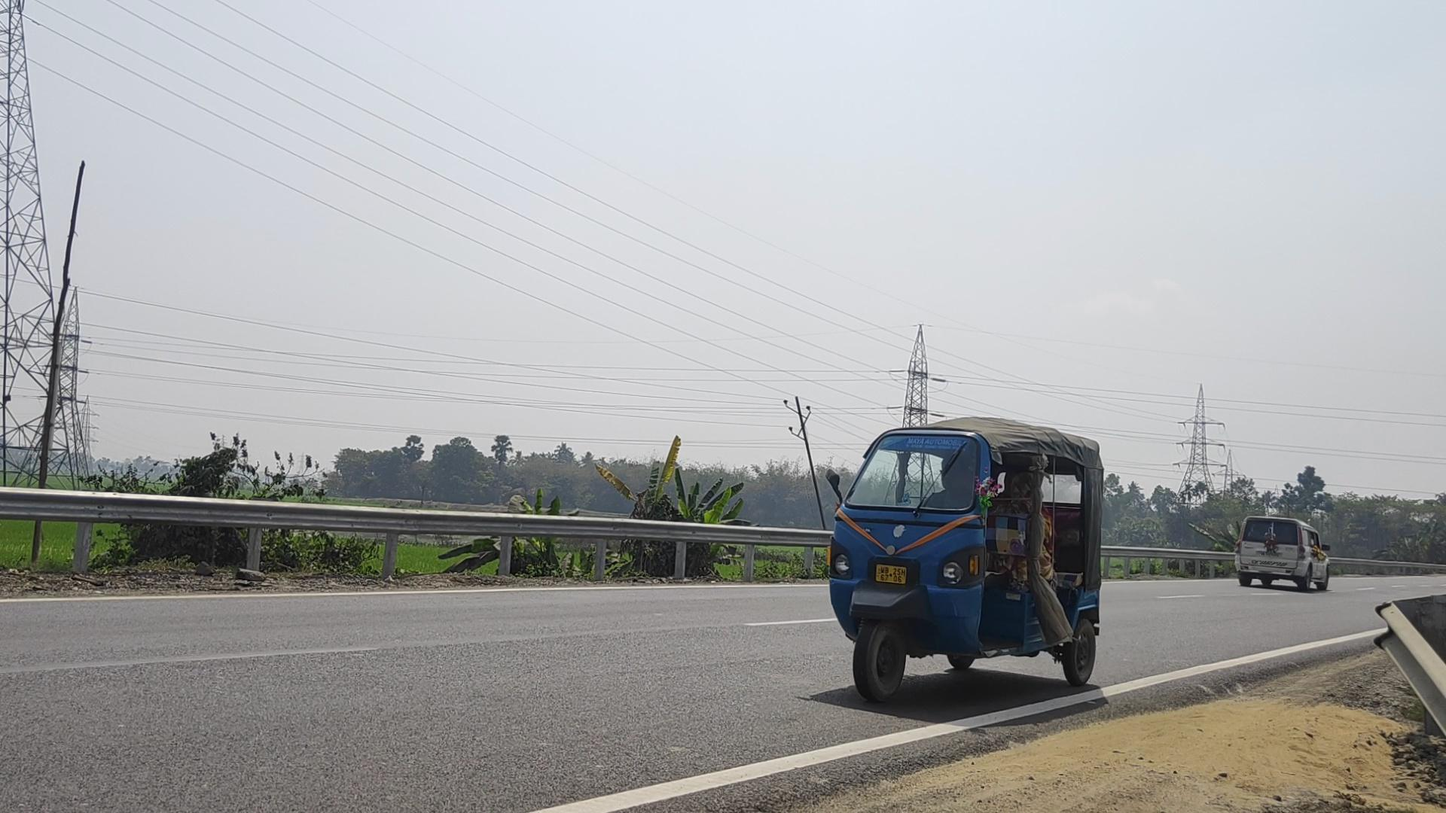Auto: (825, 416, 1105, 703)
car: (1234, 516, 1331, 592)
